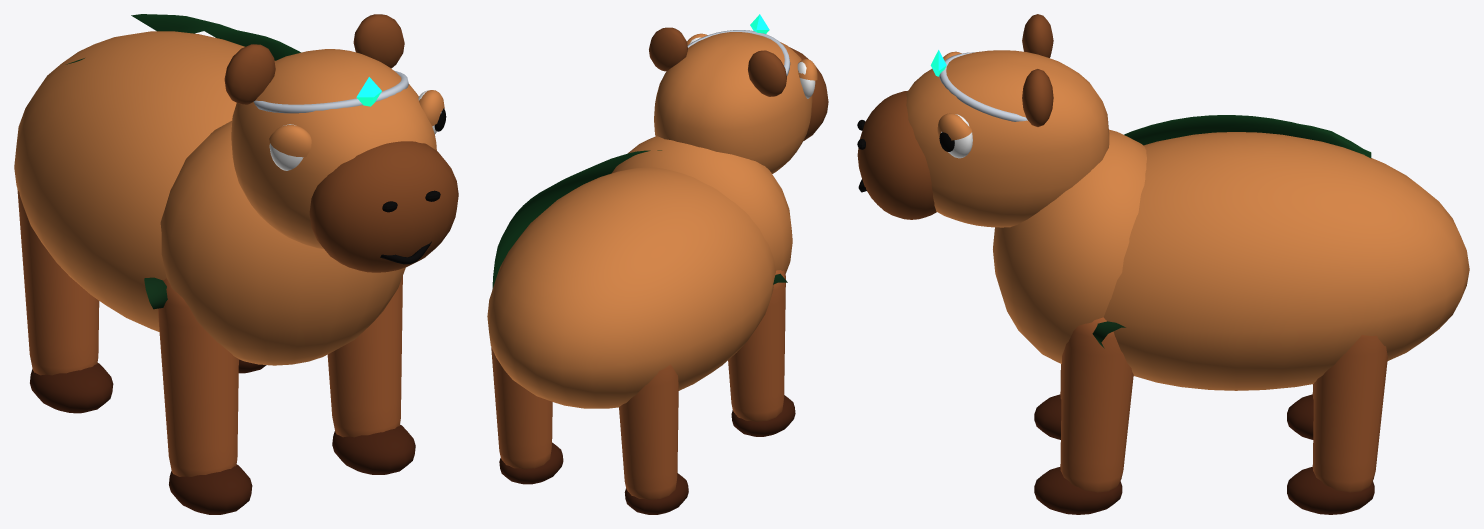
Rendered from capybara.glb.
3 views of the same model, side by side, from view 1: azimuth 30°, elevation 25°; view 2: azimuth 150°, elevation 25°; view 3: azimuth 270°, elevation 25° (orthographic). The views are drawn at different scales.
Visible parts, largest first — view 1: body, body_chest, head, head_snout, leg_-1_1, leg_-1_-1, leg_1_1, leg_-1_-1_paw, leg_1_1_paw, leg_-1_1_paw, cape, head_ear_-1 (+5 smaller); view 2: body, head, body_chest, leg_-1_-1, leg_-1_1, leg_1_-1, cape, head_ear_-1, head_ear_1, leg_1_-1_paw, leg_-1_-1_paw, leg_-1_1_paw (+2 smaller); view 3: body, head, body_chest, leg_1_1, leg_1_-1, head_snout, cape, leg_1_1_paw, leg_1_-1_paw, head_ear_1, head_ear_-1, head_circlet (+2 smaller).
Boxes of the visible parts, box(x1,y1,x2,y2) form: body: box(14, 31, 244, 331); body_chest: box(160, 121, 405, 365); head: box(231, 49, 436, 249); head_snout: box(309, 141, 458, 272); leg_-1_1: box(158, 278, 238, 476); leg_-1_-1: box(17, 189, 99, 375); leg_1_1: box(327, 276, 402, 437); leg_-1_-1_paw: box(30, 363, 113, 413); leg_1_1_paw: box(332, 424, 415, 474); leg_-1_1_paw: box(169, 464, 252, 514); cape: box(66, 14, 300, 64); head_ear_-1: box(224, 44, 275, 104); body: box(487, 167, 775, 408); head: box(654, 32, 812, 173); body_chest: box(612, 136, 792, 273); leg_-1_-1: box(619, 364, 678, 499); leg_-1_1: box(728, 270, 785, 421); leg_1_-1: box(491, 347, 552, 469); cape: box(492, 150, 661, 288); head_ear_-1: box(748, 50, 786, 96); head_ear_1: box(649, 27, 687, 71); leg_1_-1_paw: box(499, 442, 563, 484); leg_-1_-1_paw: box(624, 473, 688, 514); leg_-1_1_paw: box(731, 395, 795, 436); body: box(1103, 132, 1469, 390); head: box(906, 50, 1109, 227); body_chest: box(993, 129, 1146, 363); leg_1_1: box(1060, 317, 1133, 492); leg_1_-1: box(1312, 335, 1387, 492); head_snout: box(857, 91, 936, 219); cape: box(1124, 115, 1371, 158); leg_1_1_paw: box(1034, 467, 1122, 514); leg_1_-1_paw: box(1287, 467, 1374, 514); head_ear_1: box(1022, 69, 1053, 126); head_ear_-1: box(1022, 14, 1053, 57); head_circlet: box(939, 52, 1027, 121).
Bounding box in the file's own units: 0.6878 × 1.05 × 1.36.
